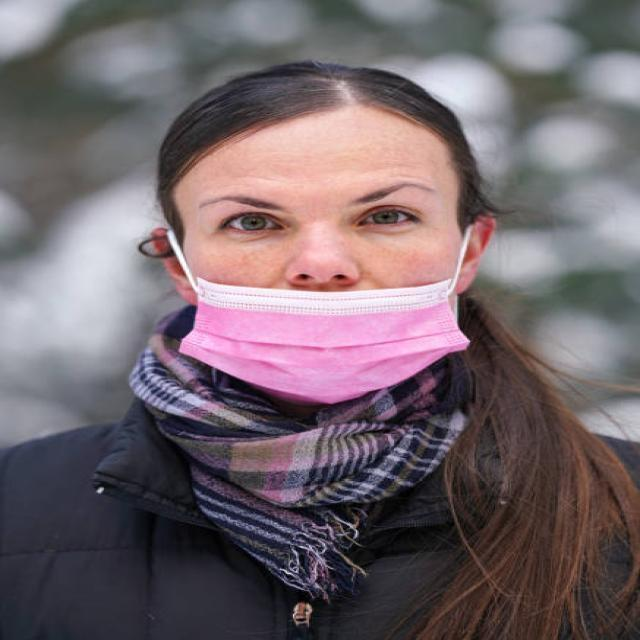hairnet: (175, 225, 474, 404)
